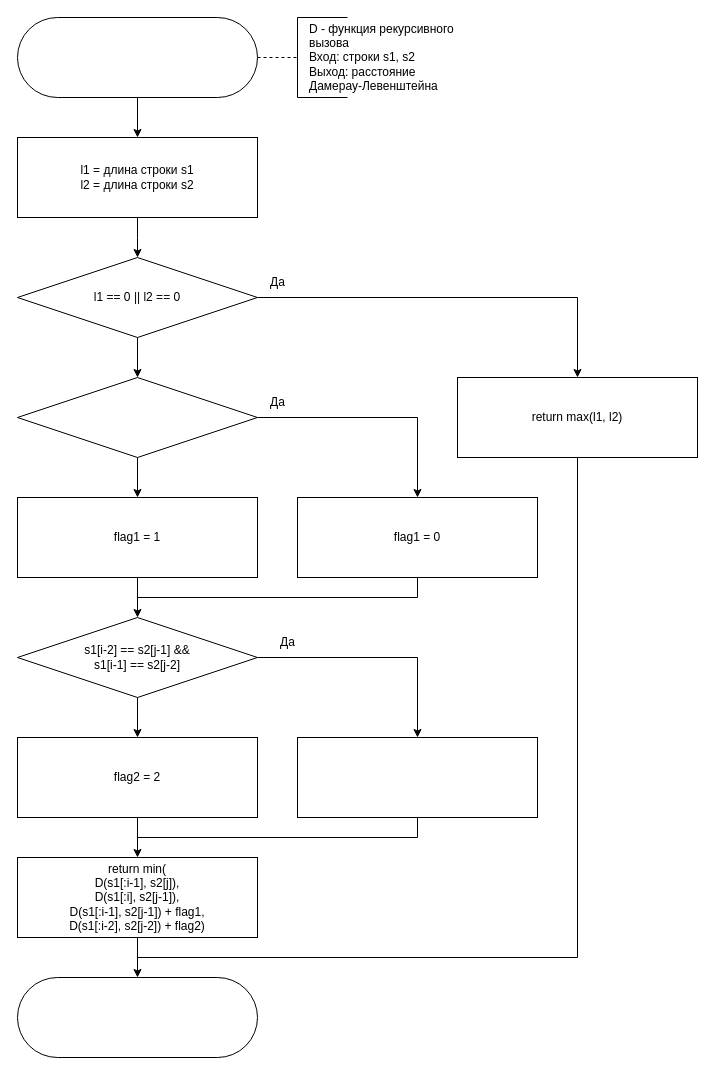
Some shapes in this 715 by 1075 pixel diagram are drawn without their labels. The box of each missing label's shape, as (x1, y1, x2, y2) in pixels:
flag2 = 1: (296, 736, 538, 818)
s1[i-1] == s2[j-1]: (16, 376, 258, 458)
Конец: (16, 976, 258, 1058)
Начало: (16, 16, 258, 98)
